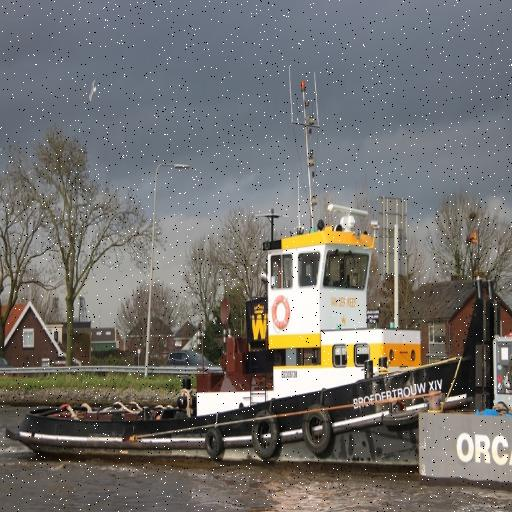tugboat: (3, 203, 512, 483)
